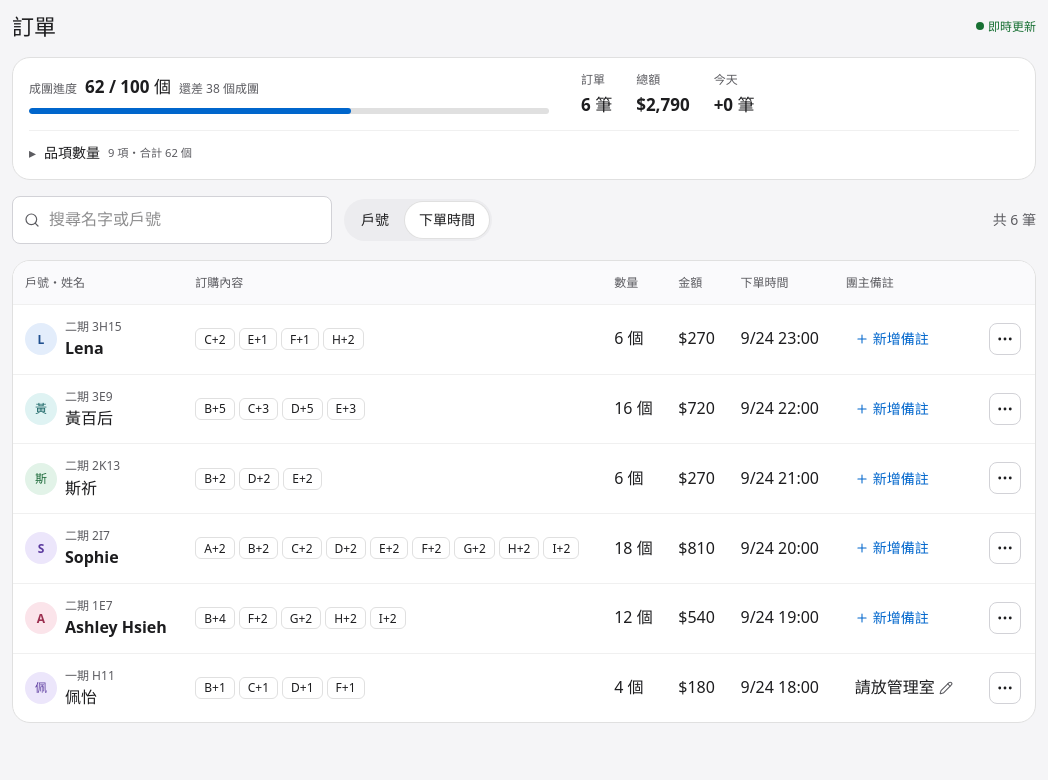
Test case: OrdersSection › keeps 新增備註 out of the ⋯ menu on wider screens, where the note column has it
What coordinates should you click on to do the following:
click the button named "更多操作 1E7・"
I would click on:
 (1006, 618)
Its box is [990, 602, 1022, 634].
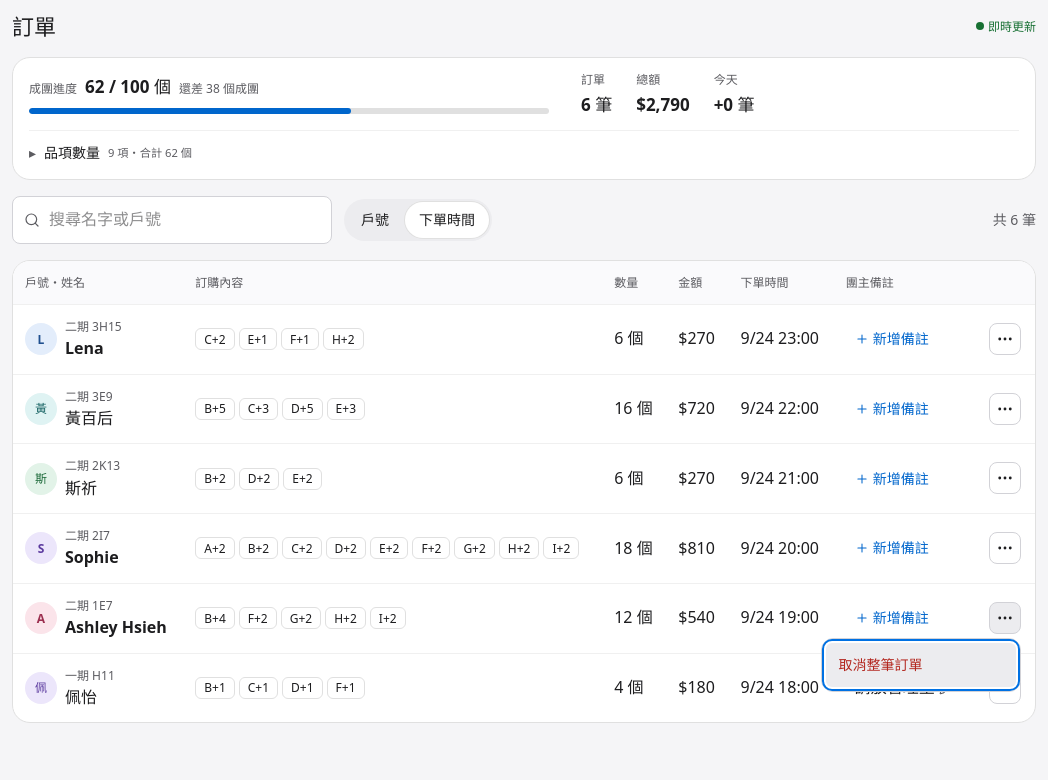
expect the menu items read "取消整筆訂單", in this order: met, box [826, 643, 1016, 687]
